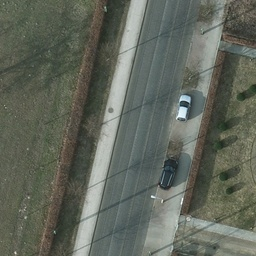car: (176, 92, 193, 123), (160, 159, 177, 189)
